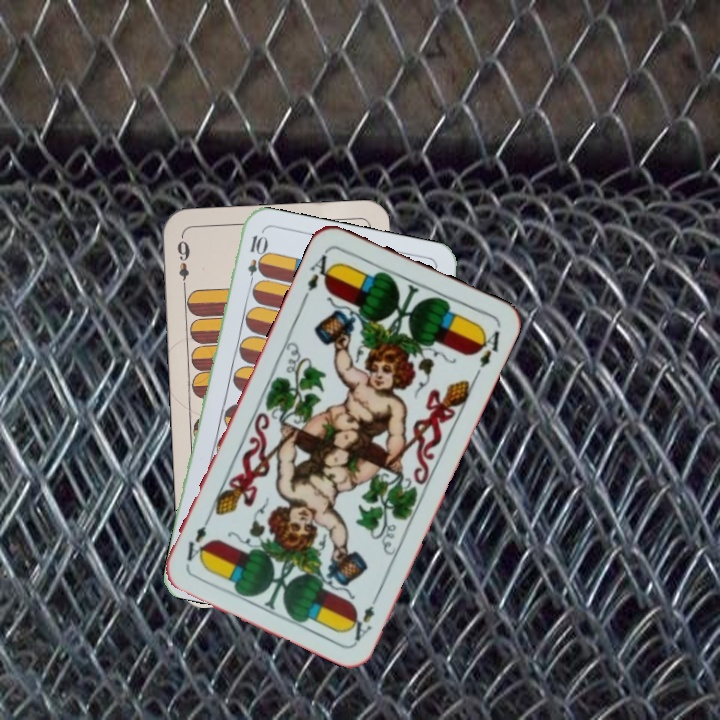E10: (243, 231, 267, 290)
E9: (173, 233, 192, 292)
EA: (345, 589, 382, 644), (303, 247, 337, 294)
